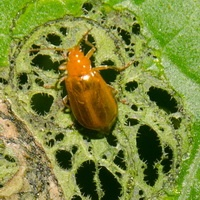insect: (55, 32, 133, 133)
